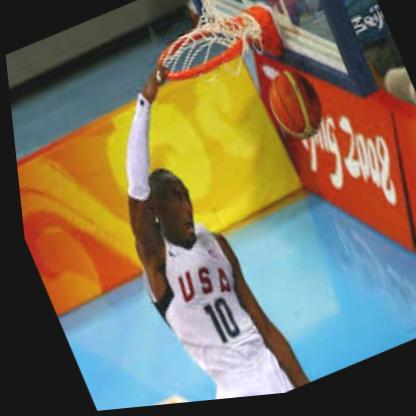basketball: (257, 68, 328, 151)
rim: (146, 17, 252, 90)
